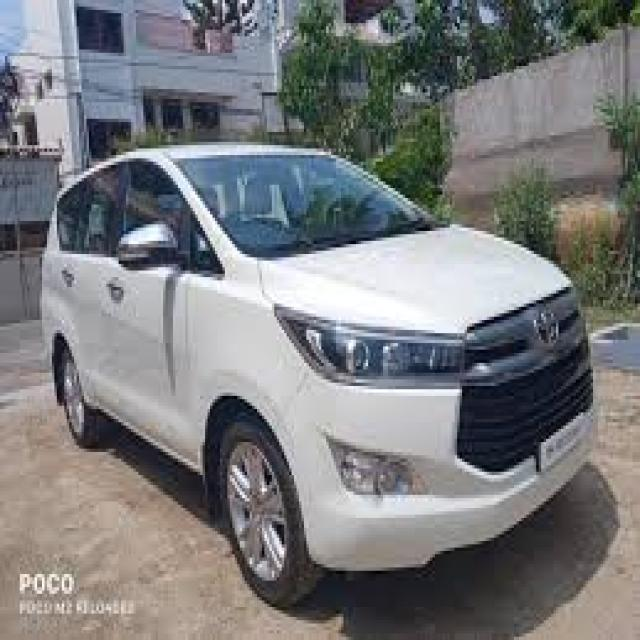light_vehicle: (41, 143, 595, 610)
